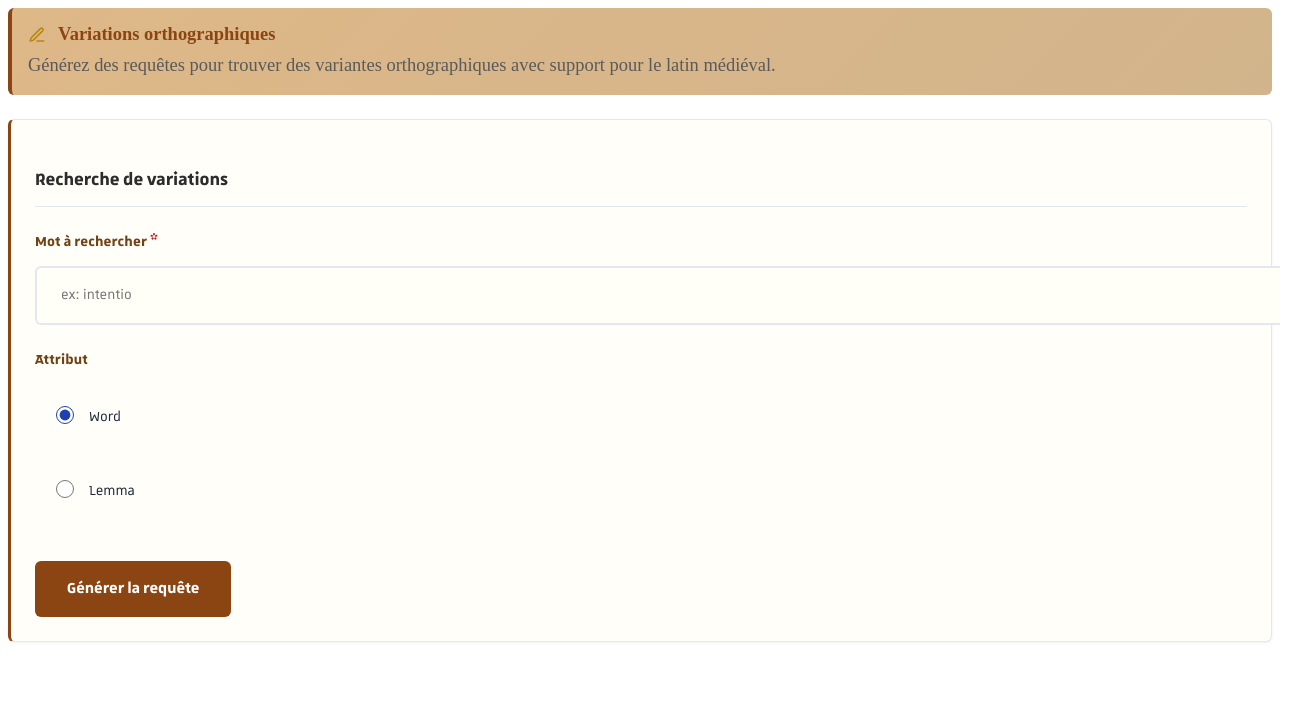
Test case: VariationView - Soumission du formulaire › devrait afficher une erreur si la génération échoue
Type "test" into the field with placeholder "ex: intentio" at (658, 295), box top-left (35, 266), bottom-right (1280, 325)
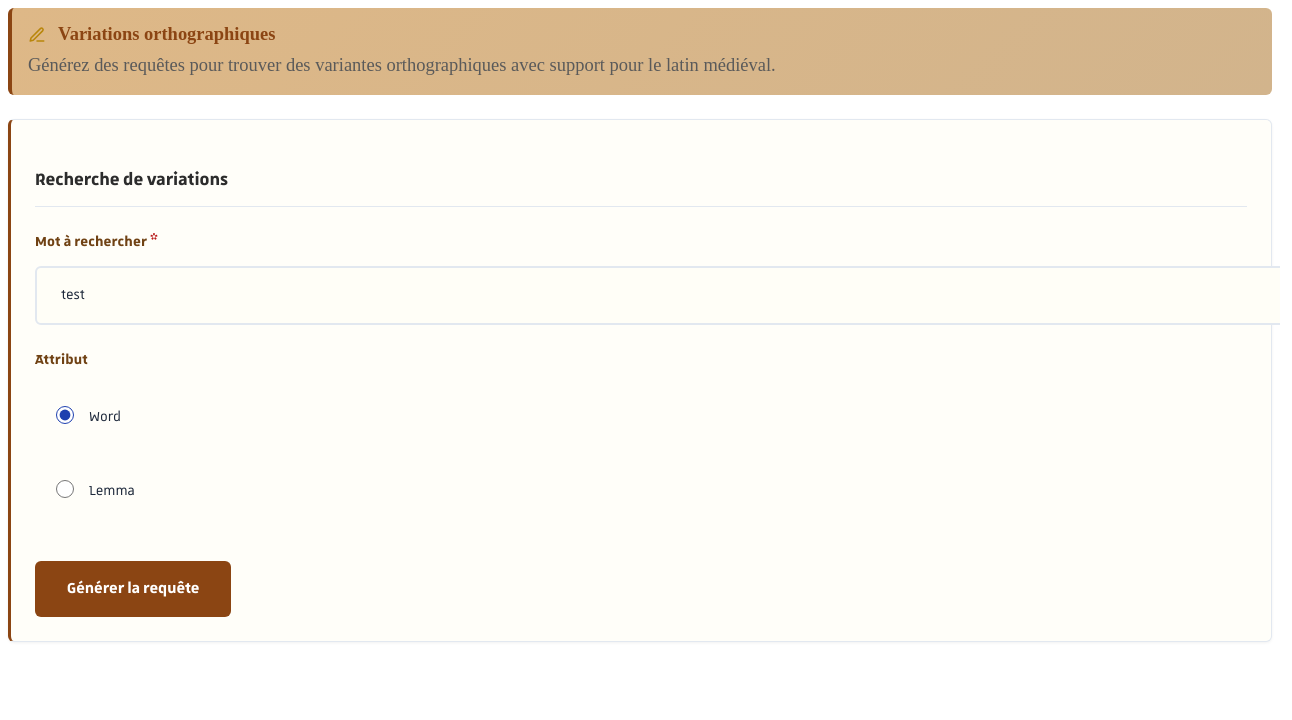
Click the button "Générer la requête" at (133, 589), box top-left (35, 561), bottom-right (231, 617)
(page scrolled)
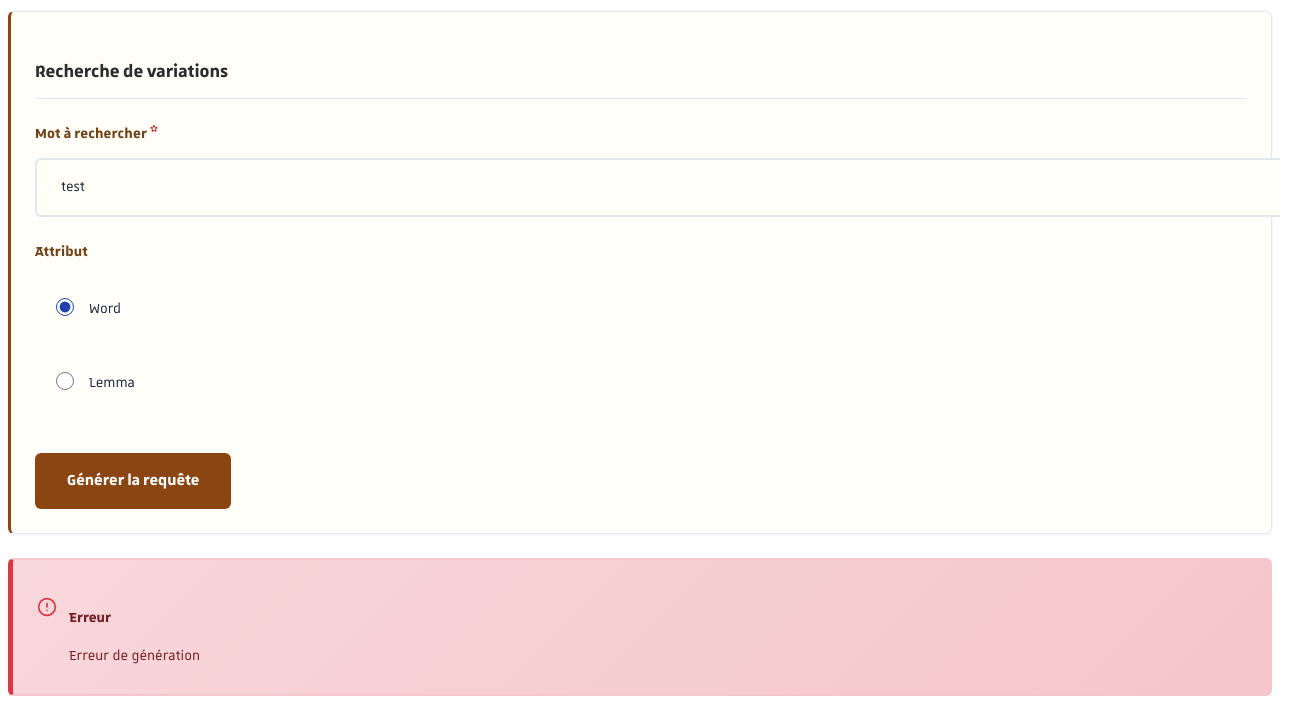
Expected: the text "Erreur de génération" is shown, top-left (69, 647), bottom-right (200, 665)
